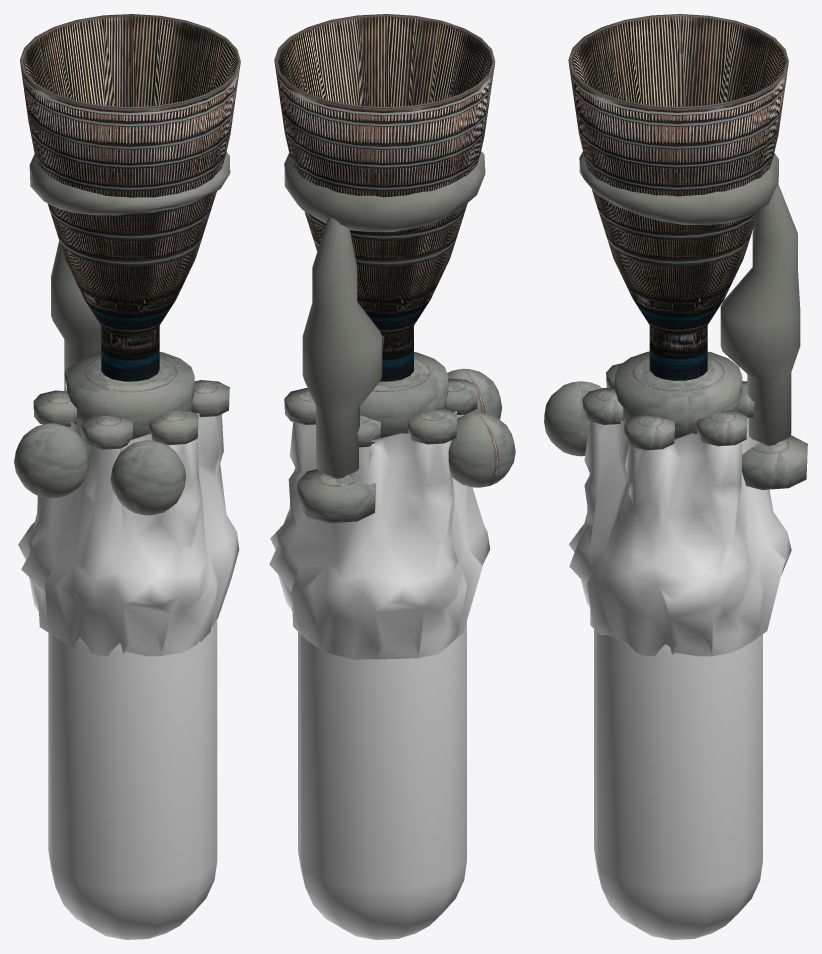
File: Rocket_Single.fbx
3 renders of one model, left to right at view 1: azimuth 30°, elevation 25°; view 2: azimuth 150°, elevation 25°; view 3: azimuth 270°, elevation 25°, orthographic.
Parts seen in each view (by area): view 1: RocketNozzleSingle_LOD0, RocketTankSingle_LOD0, RocketGreeblesSingle_LOD0, RocketPipes_Single_LOD0; view 2: RocketTankSingle_LOD0, RocketNozzleSingle_LOD0, RocketPipes_Single_LOD0, RocketGreeblesSingle_LOD0; view 3: RocketNozzleSingle_LOD0, RocketTankSingle_LOD0, RocketGreeblesSingle_LOD0, RocketPipes_Single_LOD0.
Boxes of the visible parts, x1,y1,x2,y2 form: RocketNozzleSingle_LOD0: (20, 14, 240, 381); RocketTankSingle_LOD0: (48, 619, 217, 939); RocketGreeblesSingle_LOD0: (18, 383, 239, 656); RocketPipes_Single_LOD0: (14, 152, 230, 515); RocketTankSingle_LOD0: (298, 621, 466, 939); RocketNozzleSingle_LOD0: (274, 14, 495, 381); RocketPipes_Single_LOD0: (284, 151, 515, 523); RocketGreeblesSingle_LOD0: (269, 411, 490, 659); RocketNozzleSingle_LOD0: (568, 14, 788, 380); RocketTankSingle_LOD0: (594, 629, 762, 939); RocketGreeblesSingle_LOD0: (569, 417, 791, 656); RocketPipes_Single_LOD0: (544, 152, 807, 489).
Size of what is drawn, in the model's own units: 208 by 790 by 217.
